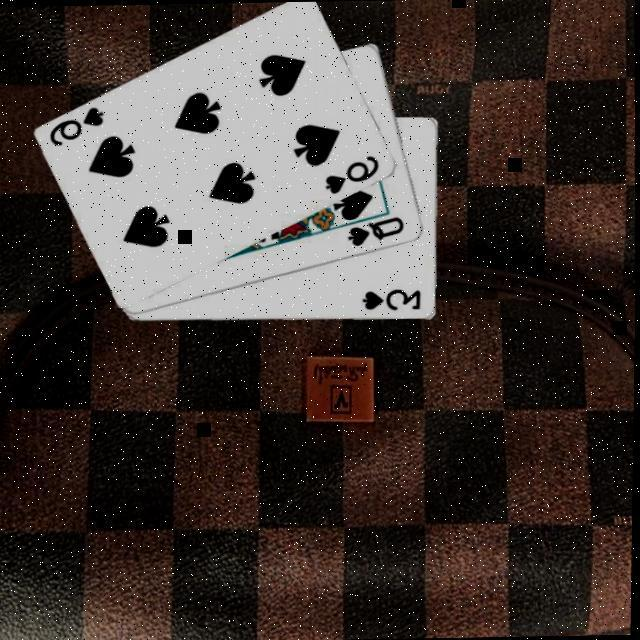3S: (358, 286, 422, 314)
6S: (320, 152, 382, 198), (44, 104, 106, 150)
QS: (343, 214, 406, 250)
